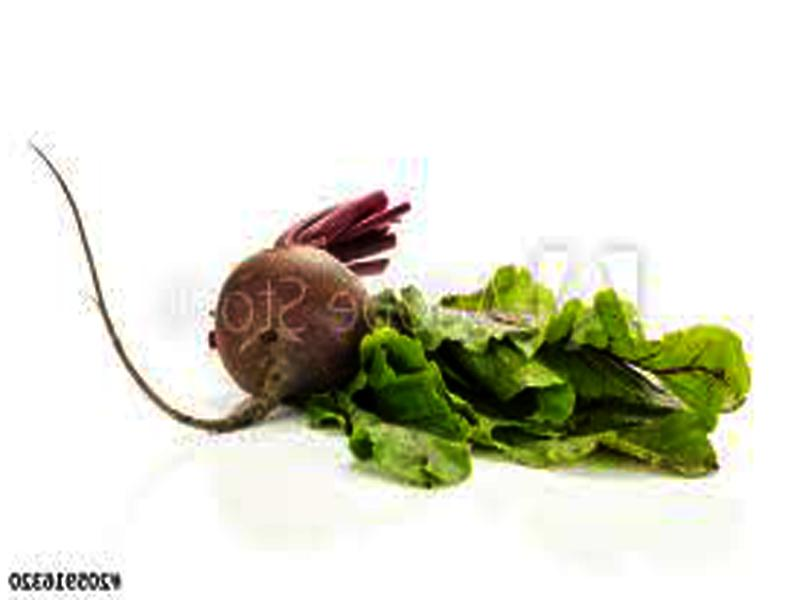Beet: (25, 141, 415, 433)
